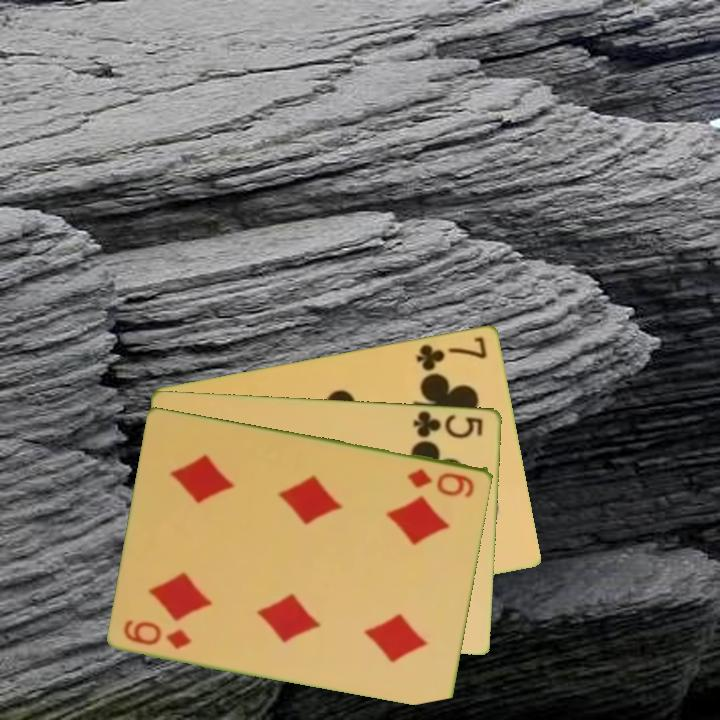5c: (410, 407, 486, 441)
6d: (120, 616, 195, 652), (404, 465, 478, 500)
7c: (413, 332, 490, 373)
